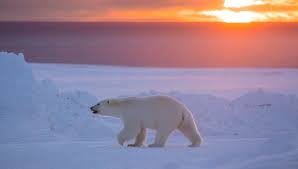PolarBear: (90, 84, 210, 153)
